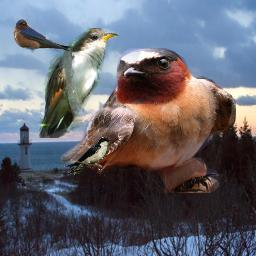Cuckoo: (39, 28, 119, 138)
Swallow: (61, 48, 236, 193), (13, 19, 80, 53), (64, 137, 110, 177)
